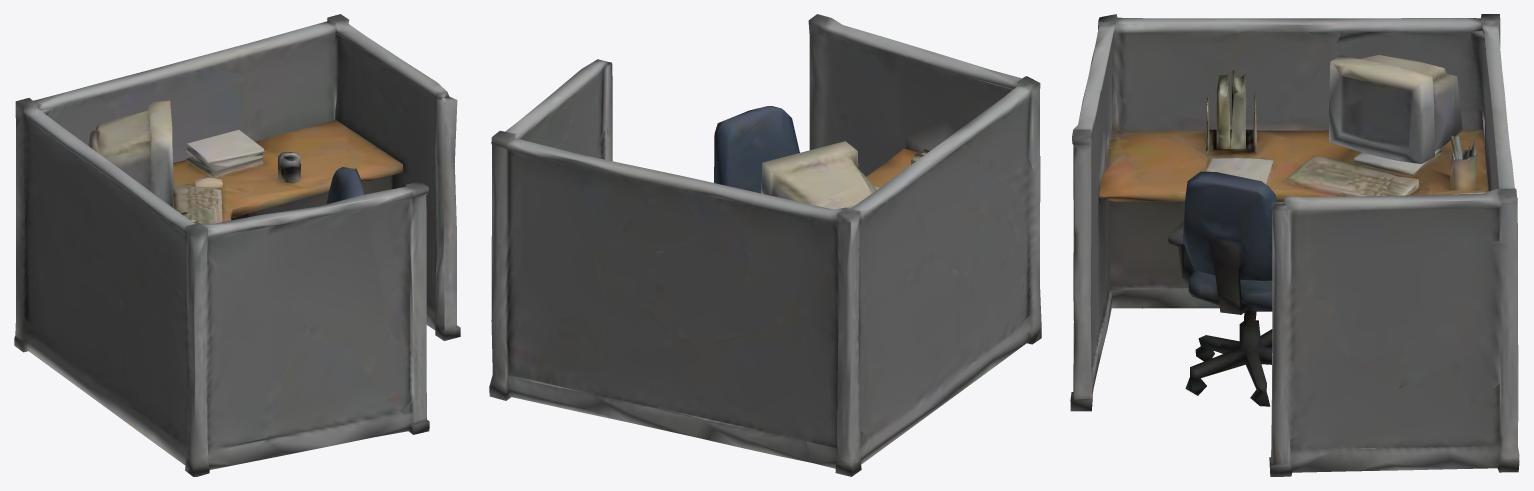
Rendered from pillar.glb.
The picture shows the model from 3 angles, left to right: view 1: azimuth 30°, elevation 25°; view 2: azimuth 150°, elevation 25°; view 3: azimuth 270°, elevation 25°; orthographic projection. The views are drawn at different scales.
Parts seen in each view (by area): view 1: tripo_node_e81b3879-c58a-425e-af74-bf65a98a6270; view 2: tripo_node_e81b3879-c58a-425e-af74-bf65a98a6270; view 3: tripo_node_e81b3879-c58a-425e-af74-bf65a98a6270.
Boxes of the visible parts, x1=… form: tripo_node_e81b3879-c58a-425e-af74-bf65a98a6270: x1=14, y1=14, x2=460, y2=476; tripo_node_e81b3879-c58a-425e-af74-bf65a98a6270: x1=489, y1=14, x2=1041, y2=476; tripo_node_e81b3879-c58a-425e-af74-bf65a98a6270: x1=1070, y1=14, x2=1519, y2=476.
Size of the model in its own units: 0.9951 by 0.6776 by 1.
Materials: 1 (1 with a texture image).
